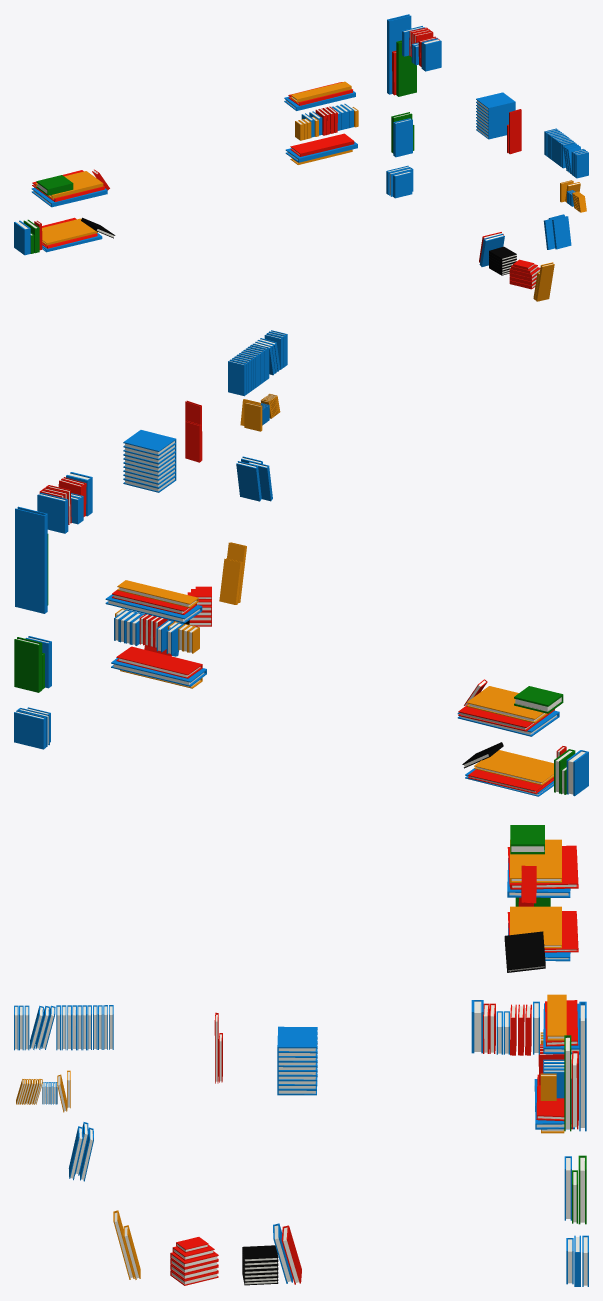
The model's file is Libro.obj.
3 views of the same model, one above another, from view 1: azimuth 30°, elevation 25°; view 2: azimuth 150°, elevation 25°; view 3: azimuth 270°, elevation 25° (orthographic). The views are drawn at different scales.
Parts seen in each view (by area): view 1: polySurface7; view 2: polySurface7; view 3: polySurface7.
Part boxes in pixels (x1=…): polySurface7: x1=14, y1=14, x2=588, y2=301; polySurface7: x1=14, y1=330, x2=588, y2=796; polySurface7: x1=14, y1=825, x2=588, y2=1286.
Size of the model in its own units: 9.15 by 3.75 by 7.15.
9 materials, 9 textured.
